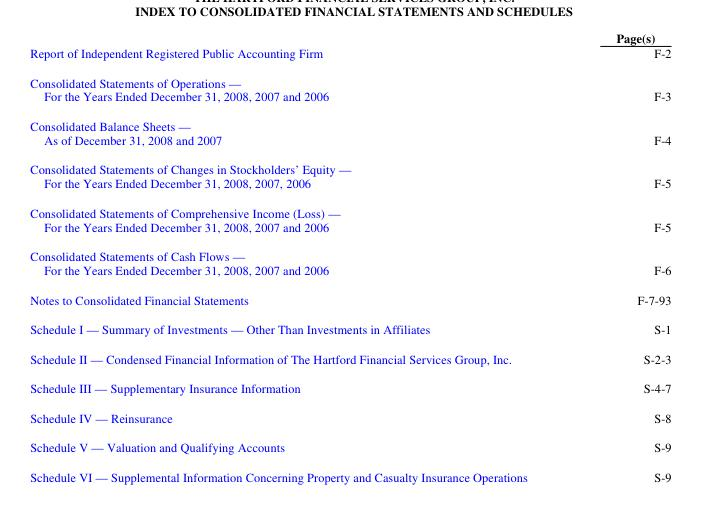table: (29, 29, 670, 484)
table column: (29, 29, 571, 484), (571, 29, 670, 484)
table column header: (29, 29, 670, 45)
table row: (29, 153, 670, 197), (29, 240, 670, 284), (29, 67, 670, 110), (29, 110, 670, 153), (29, 197, 670, 240), (29, 313, 670, 343), (29, 372, 670, 402), (29, 431, 670, 461), (29, 284, 670, 313), (29, 343, 670, 372), (29, 402, 670, 431), (29, 461, 670, 484), (29, 45, 670, 67), (29, 29, 670, 45)
